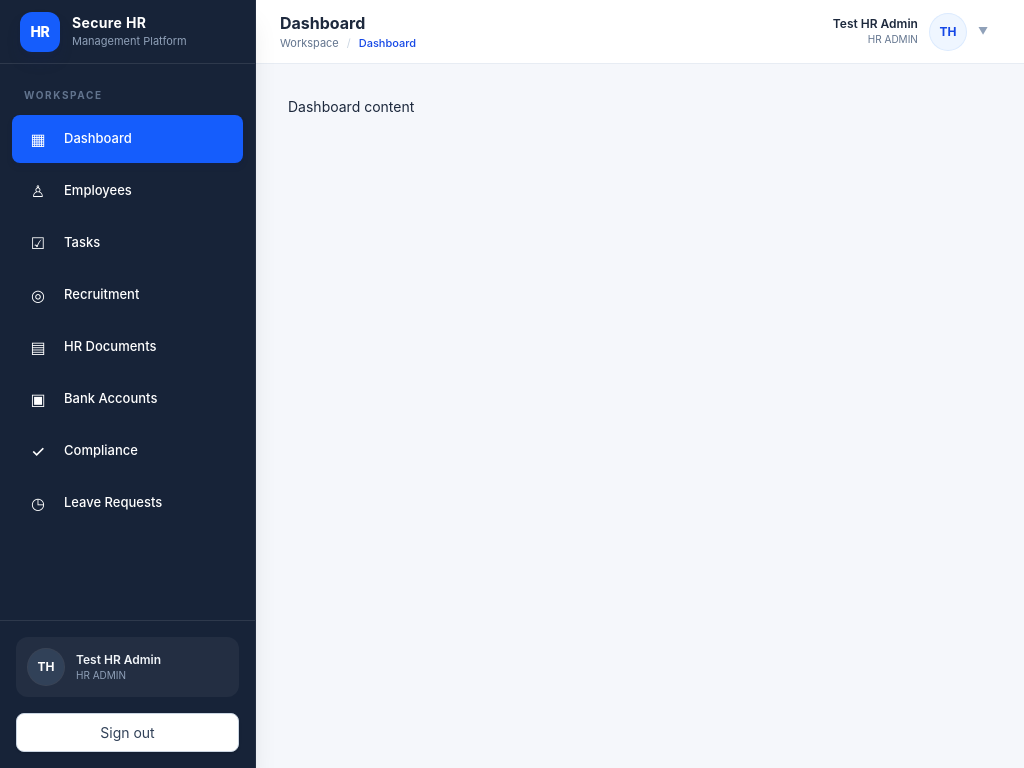
Test: AppLayout › does not log out when confirmation is cancelled
Step 1. Click the button "Sign out" → (128, 732), box 16,713 -> 239,752
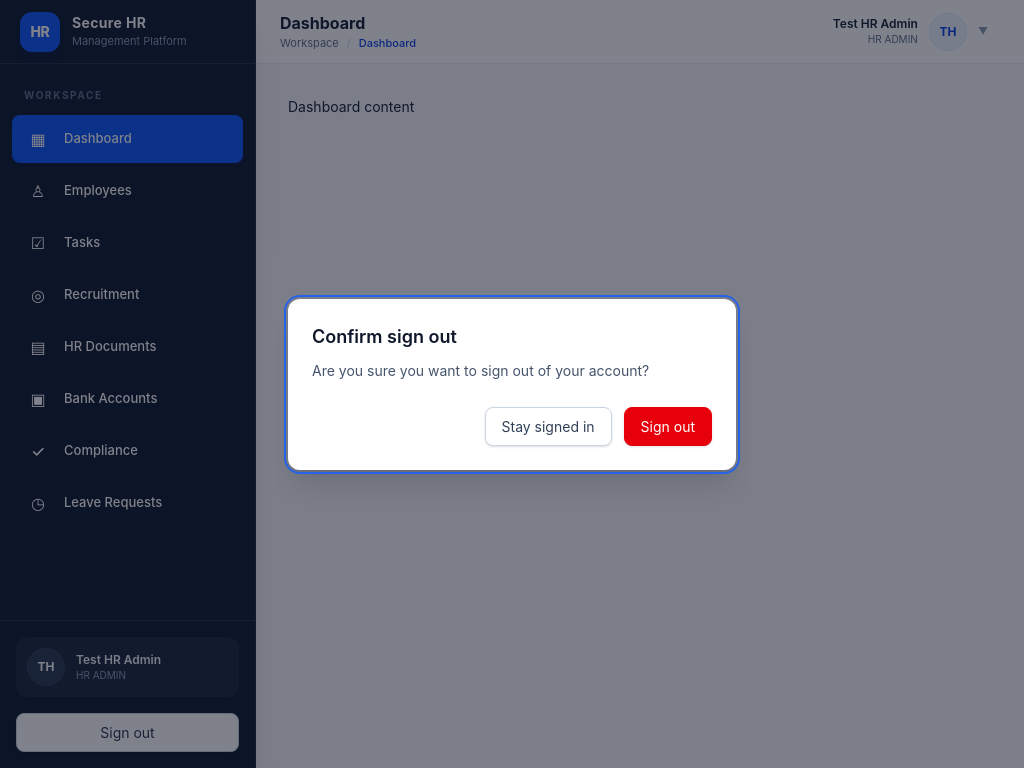
Step 2. Click the button "Stay signed in" → (548, 426), box 484,406 -> 612,446
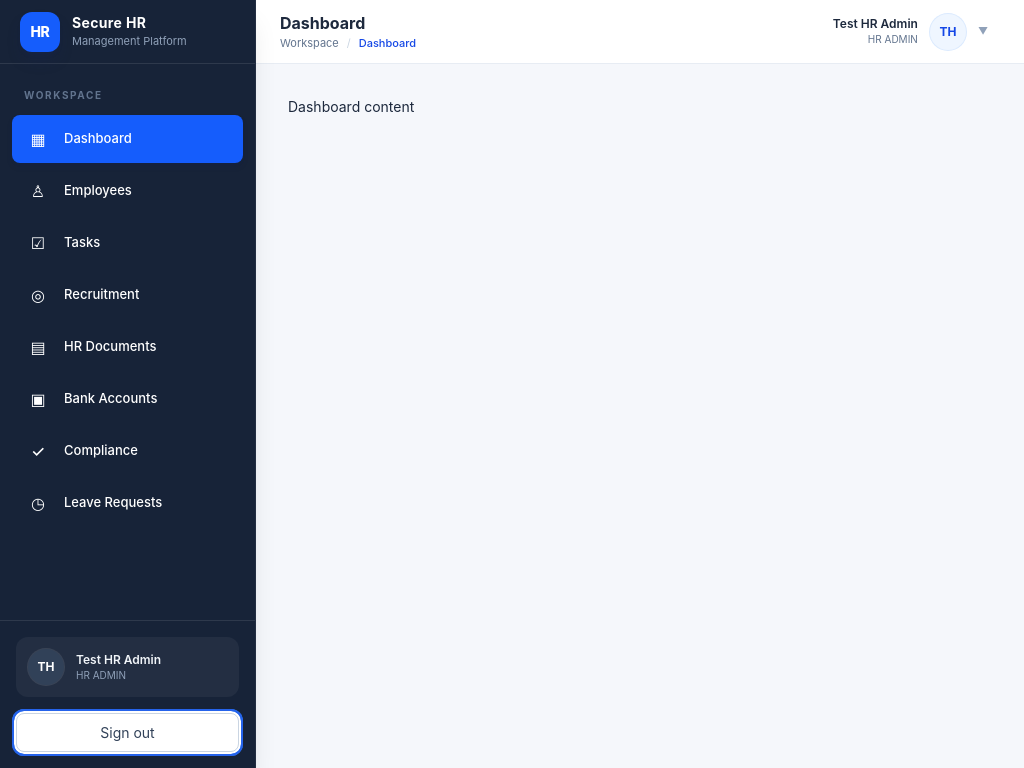
Expected: the dialog is gone
